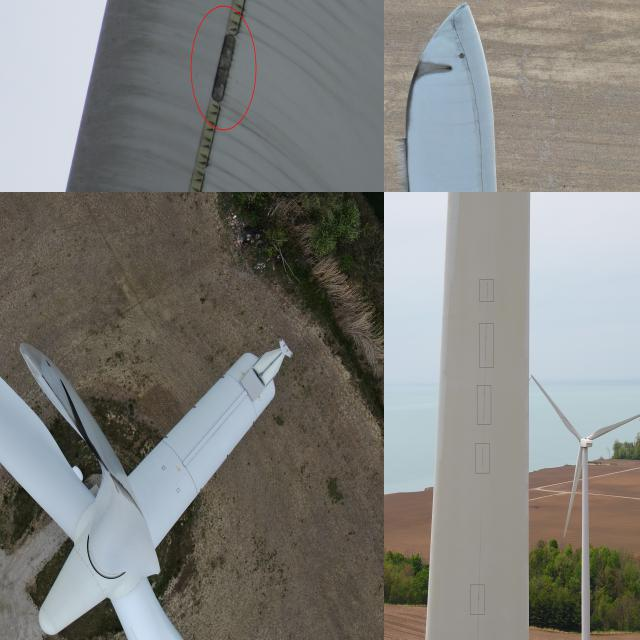damage: (52, 370, 98, 456), (202, 28, 246, 112), (408, 57, 456, 88), (480, 386, 488, 426), (483, 324, 488, 368), (476, 446, 484, 472), (476, 586, 481, 608), (485, 280, 489, 300)
